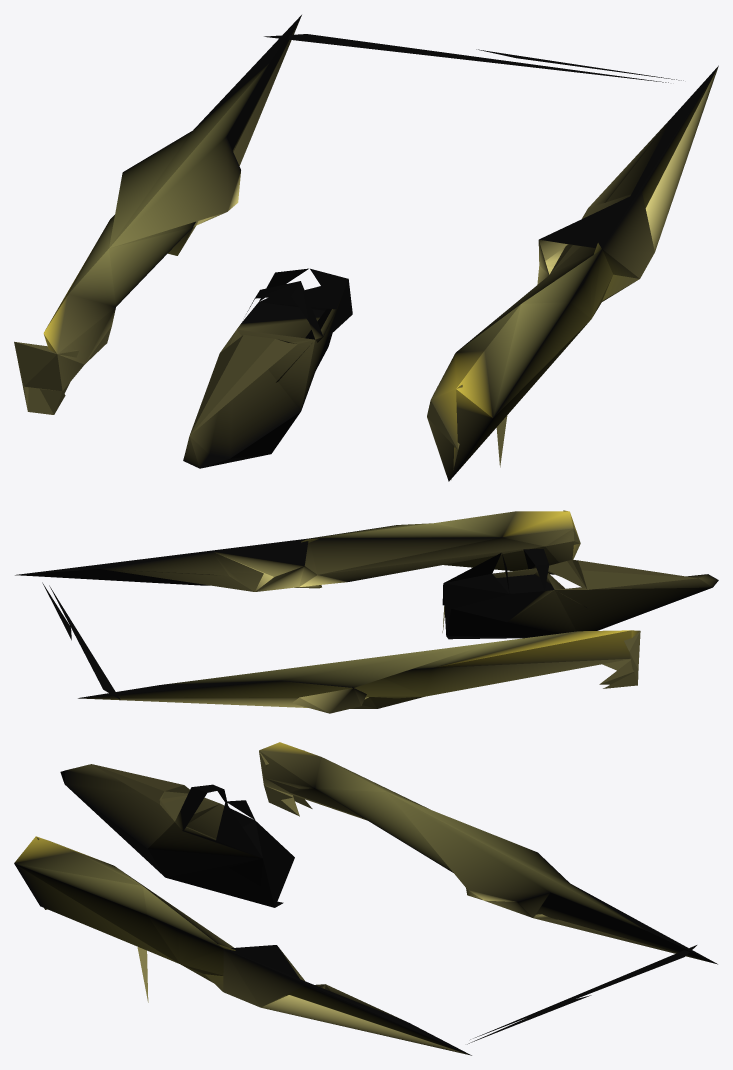
3 views of the same model, one above another, from view 1: azimuth 30°, elevation 25°; view 2: azimuth 150°, elevation 25°; view 3: azimuth 270°, elevation 25° (orthographic). The views are drawn at different scales.
Parts seen in each view (by area): view 1: pt_sponson01-FACES; view 2: pt_sponson01-FACES; view 3: pt_sponson01-FACES.
Part boxes in pixels (x1,y1,x2,y2): pt_sponson01-FACES: [14, 15, 718, 481]; pt_sponson01-FACES: [15, 510, 718, 713]; pt_sponson01-FACES: [14, 742, 717, 1055].
Bounding box in the file's own units: 6.51 × 1.51 × 6.38.
